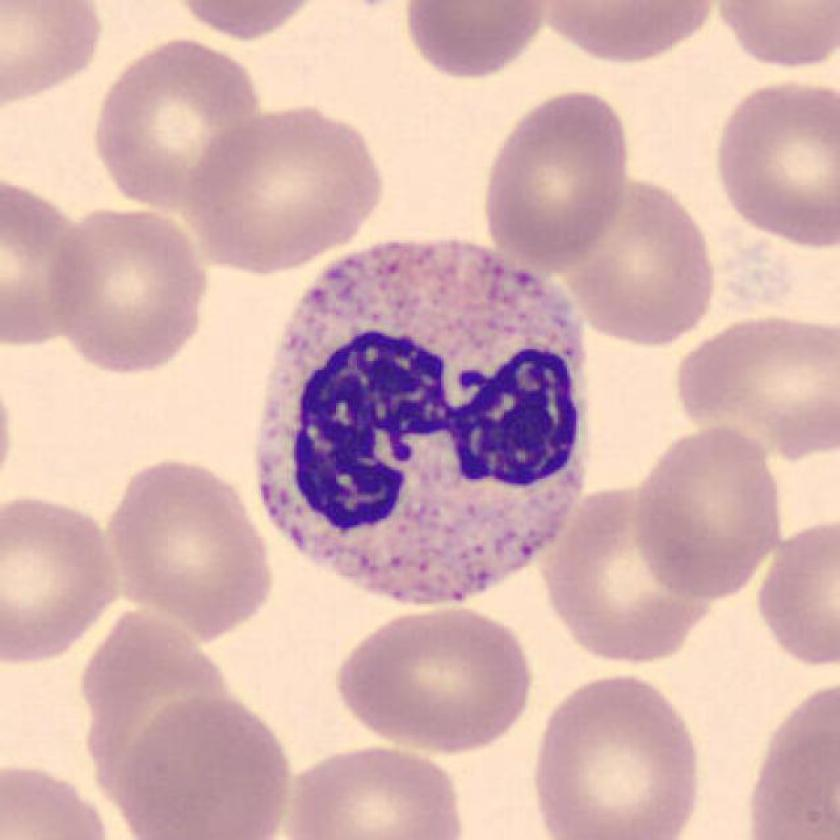neutrophil: (261, 243, 585, 606)
